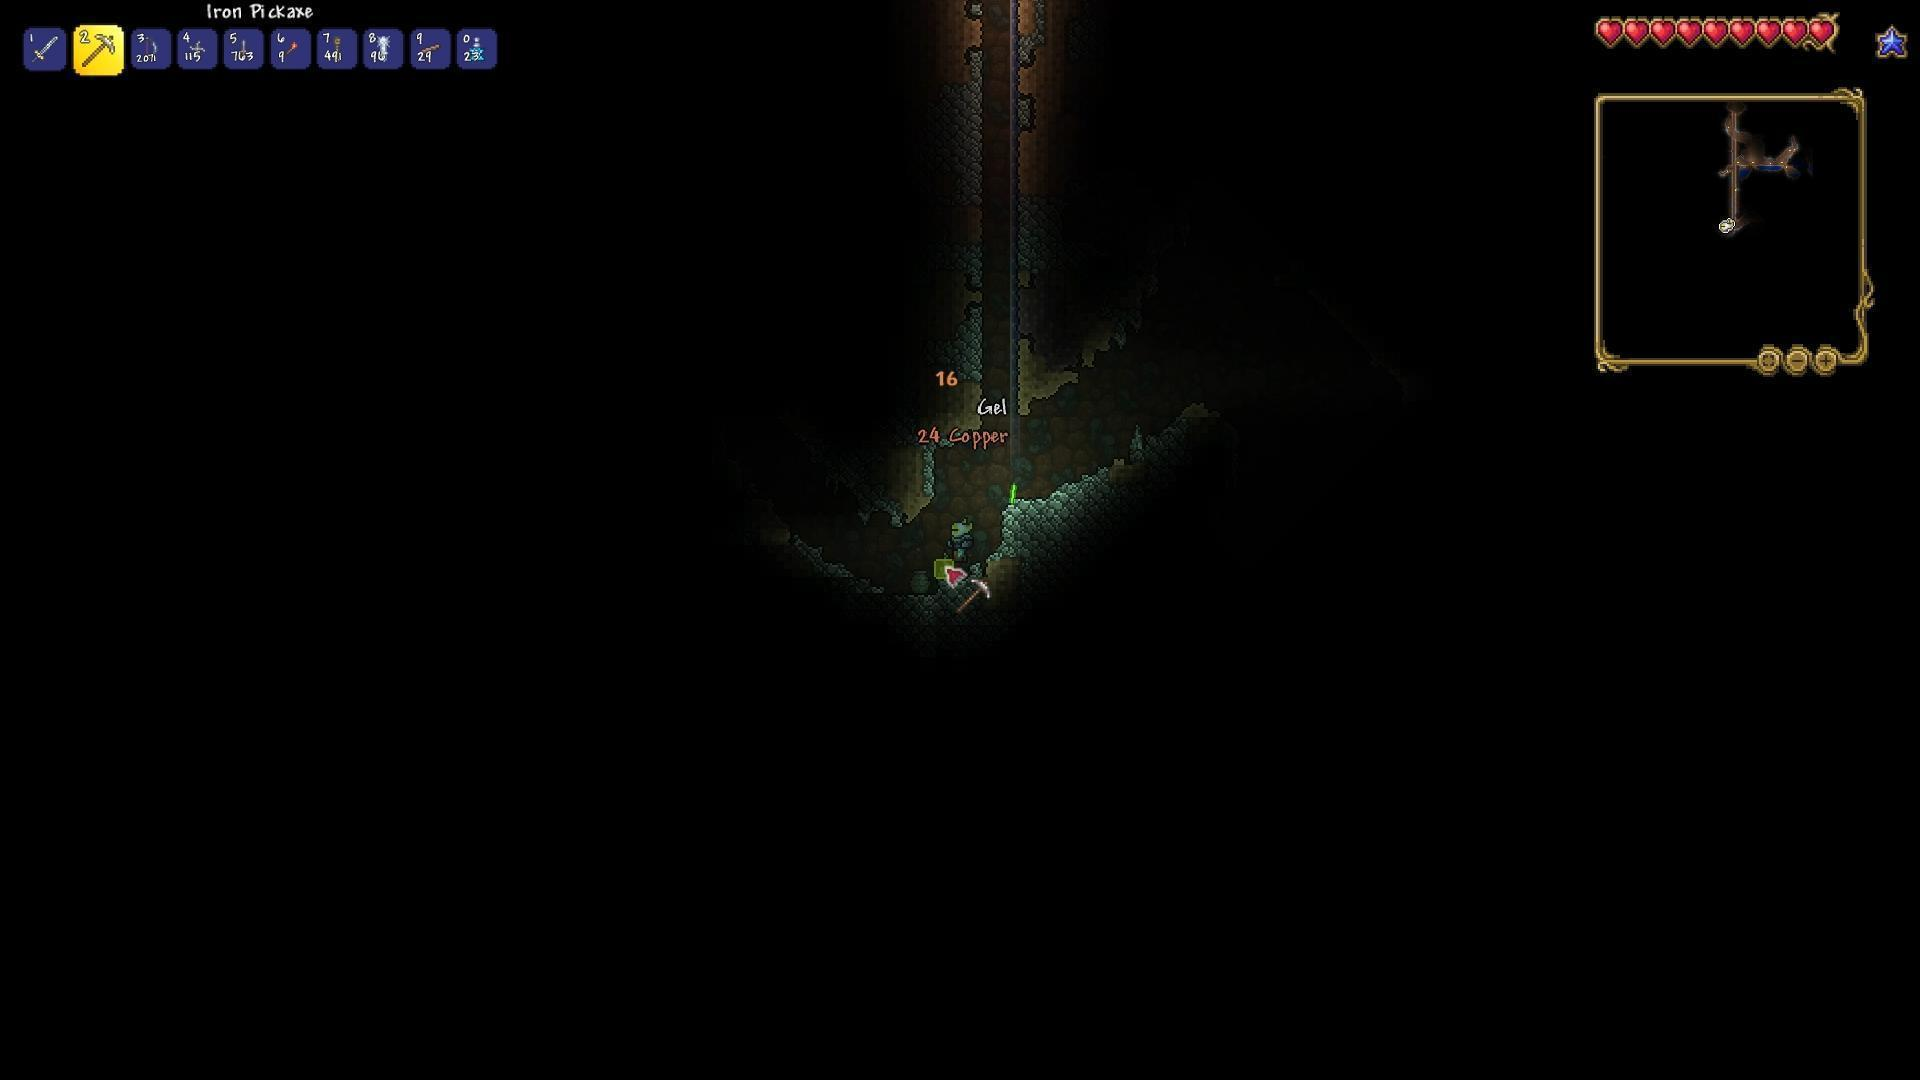bow: (140, 33, 162, 66)
glowstick: (1005, 475, 1025, 506)
knife: (237, 36, 251, 58)
pickaxe: (80, 32, 117, 69)
recallP: (468, 34, 491, 62)
rope: (373, 36, 392, 61), (330, 33, 344, 62)
shuriken: (187, 38, 206, 57)
sword: (30, 34, 59, 65)
